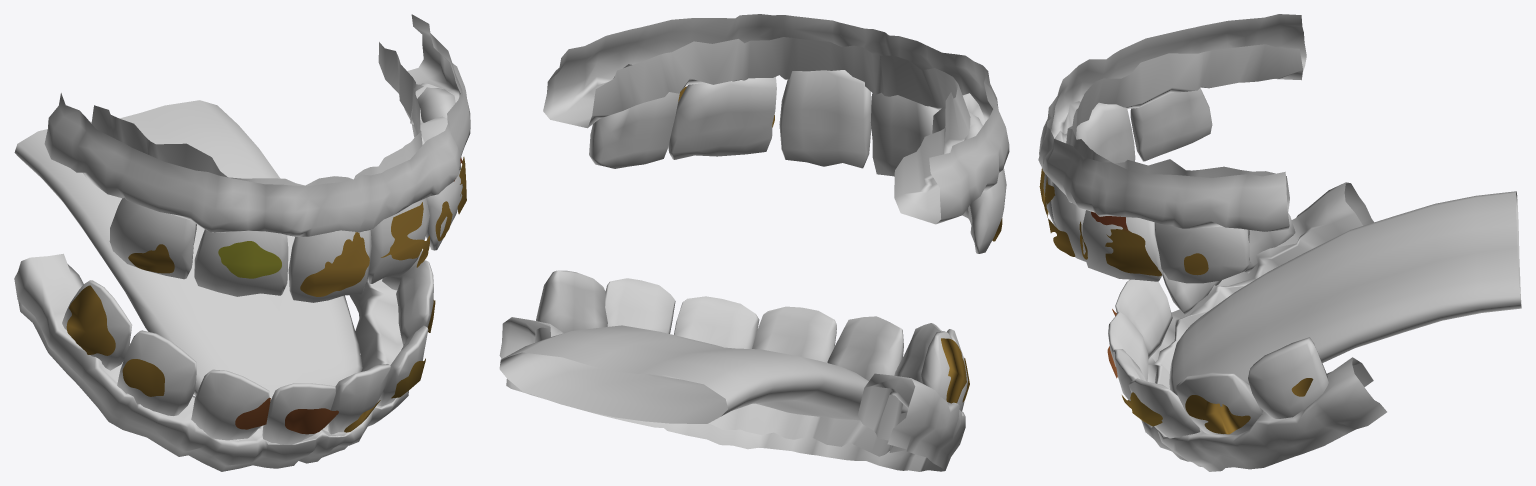
File: tooth.fbx
3 renders of one model, left to right at view 1: azimuth 30°, elevation 25°; view 2: azimuth 150°, elevation 25°; view 3: azimuth 270°, elevation 25°, orthographic. The views are drawn at different scales.
Visible parts, largest first — view 1: tooth2, polySurface12, polySurface14, polySurface11, polySurface15, polySurface16, polySurface17; view 2: tooth2, polySurface12; view 3: tooth2, polySurface16, polySurface17, polySurface14.
Boxes of the visible parts, x1,y1,x2,y2 form: tooth2: [14, 14, 470, 471]; polySurface12: [66, 285, 270, 429]; polySurface14: [300, 202, 429, 296]; polySurface11: [128, 241, 281, 278]; polySurface15: [285, 400, 380, 434]; polySurface16: [435, 157, 466, 241]; polySurface17: [391, 300, 435, 398]; tooth2: [499, 14, 1009, 471]; polySurface12: [941, 338, 969, 403]; tooth2: [1038, 14, 1521, 471]; polySurface16: [1079, 211, 1208, 276]; polySurface17: [1130, 378, 1313, 434]; polySurface14: [1039, 168, 1075, 256].
Bounding box in the file's own units: 16.77 × 15.35 × 19.52.
